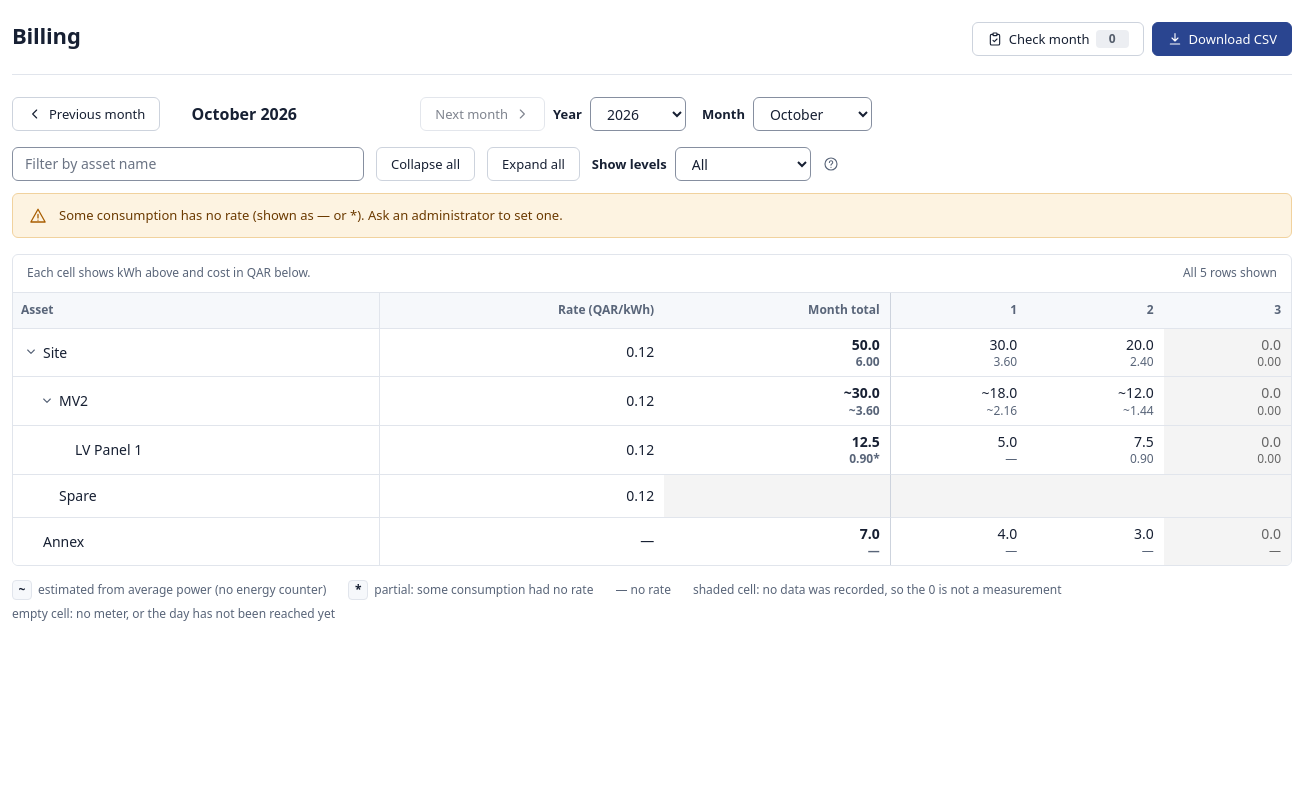
Test: BillingPage › the Year and Month selects › jump to a month far back: pick the year, then the month
Expected: the column heading "Site" is shown, [13,329,380,377]
Select "2025" in the dropdown labelled "Year" at (638, 114), box [590,97,686,131]
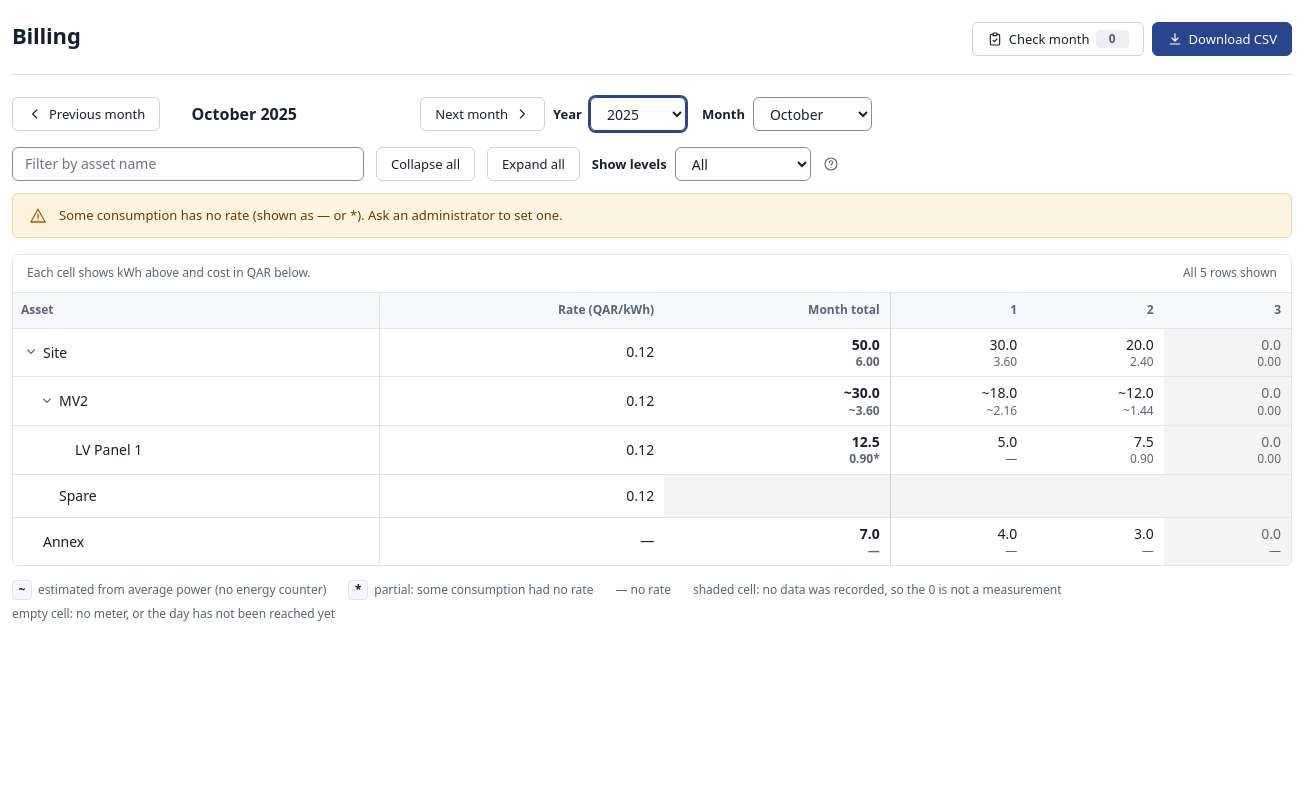
Now the text "October 2025" is shown, box [192,103,297,125]
Select "March" in the dropdown labelled "Month" at (812, 114), box [753,97,872,131]
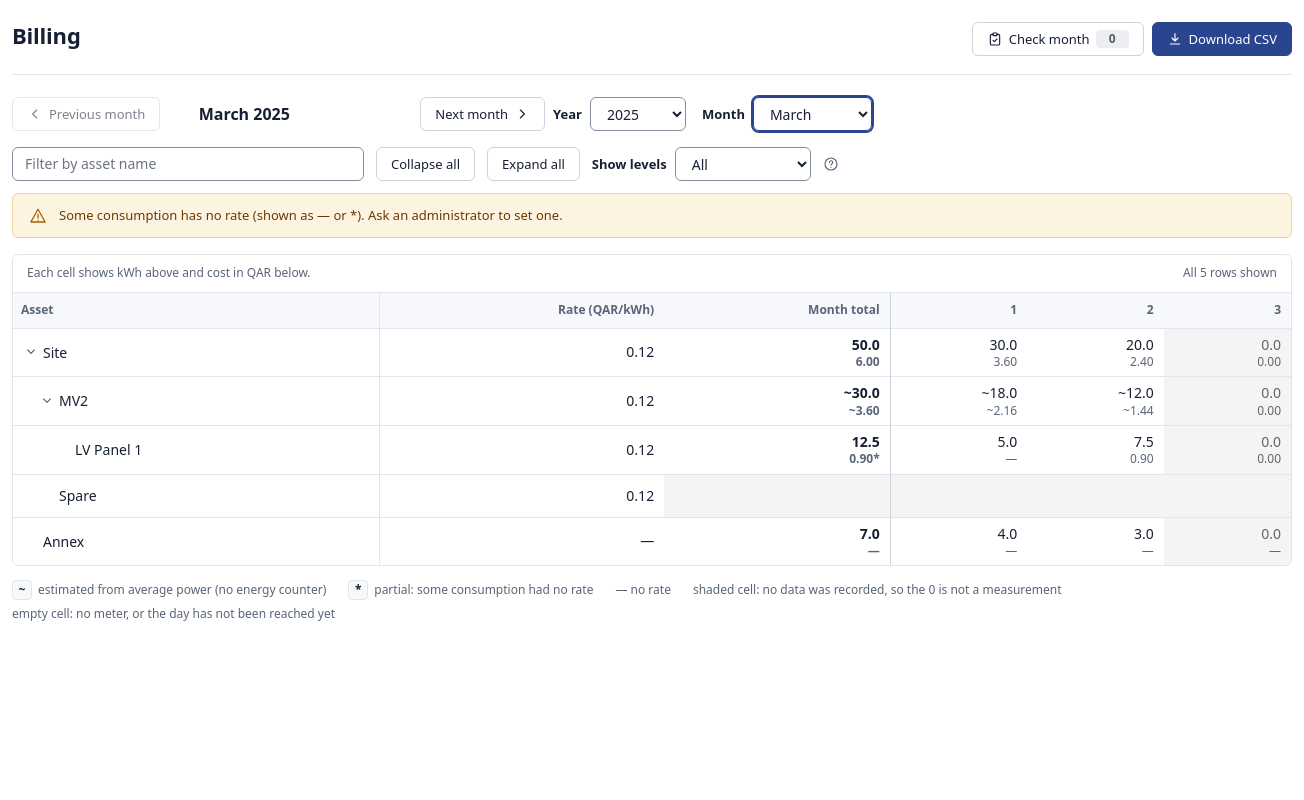
Now the button "Next month" is enabled, box [420,97,545,131]
Now the text "March 2025" is shown, box [199,103,290,125]
Now the button "Previous month" is disabled, box [12,97,160,131]
